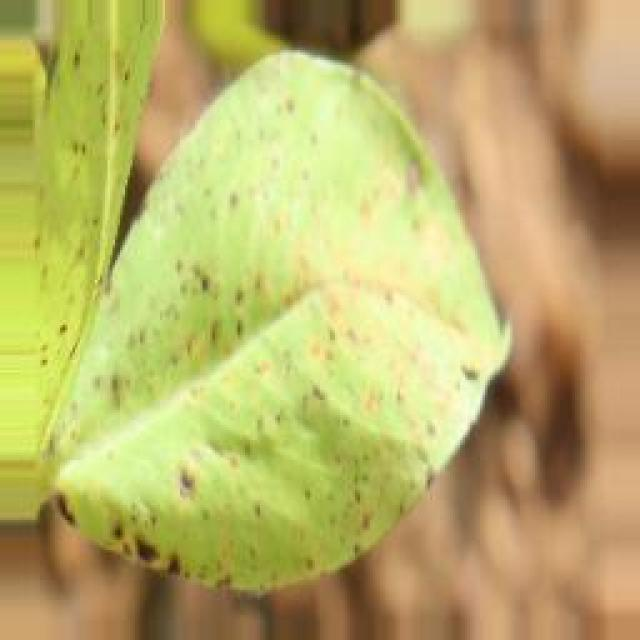Yellowish: (1, 0, 507, 566)
